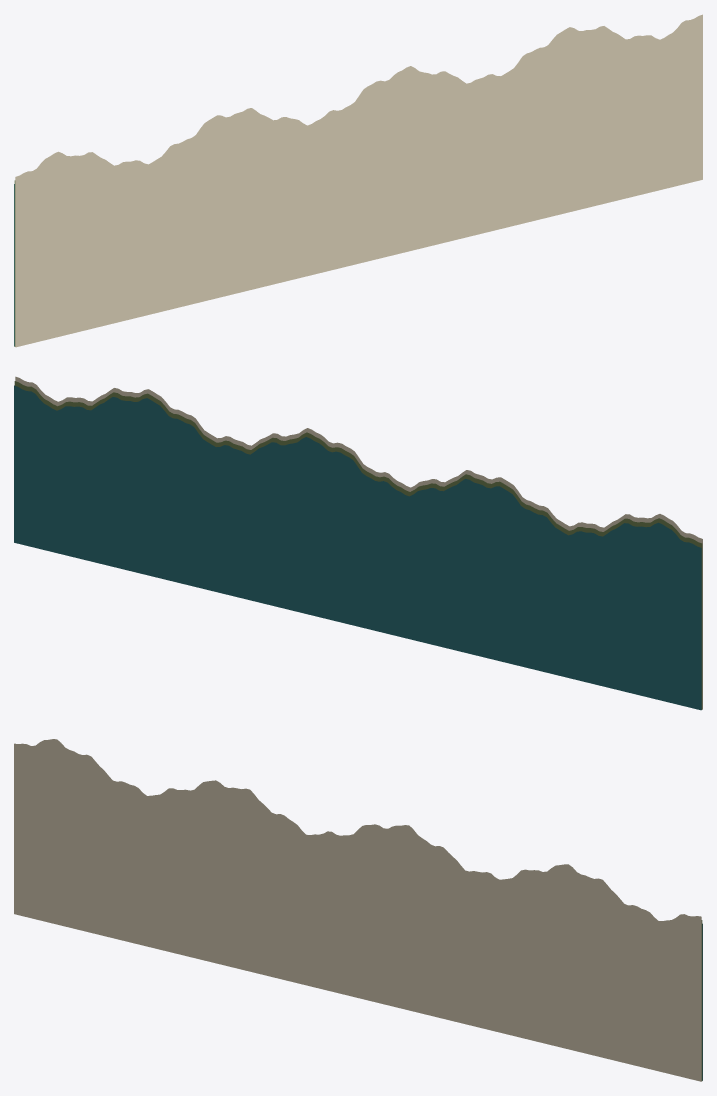
Rendered from wave-serrated.glb.
The picture shows the model from 3 angles, top to bottom: view 1: azimuth 30°, elevation 25°; view 2: azimuth 150°, elevation 25°; view 3: azimuth 330°, elevation 25°; orthographic projection.
Visible parts, largest first — view 1: Surf_layer_2; view 2: Surf_layer_0, Surf_layer_1, Surf_layer_2; view 3: Surf_layer_2.
Part boxes in pixels (bbox=[...]): Surf_layer_2: bbox=[15, 14, 702, 347]; Surf_layer_0: bbox=[14, 385, 701, 710]; Surf_layer_1: bbox=[14, 381, 702, 709]; Surf_layer_2: bbox=[15, 376, 702, 709]; Surf_layer_2: bbox=[14, 739, 701, 1081].
Bounding box in the file's own units: 18 × 4.64 × 0.06.
